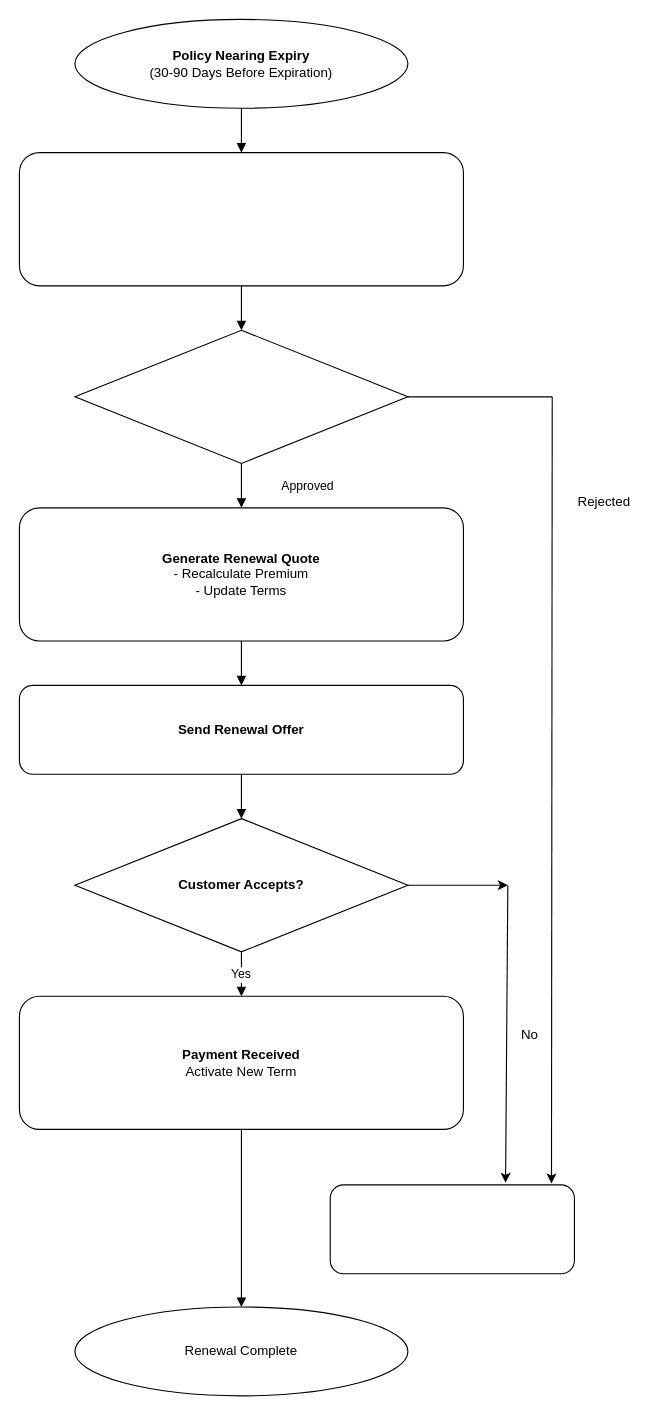
This 660x1415 diagram has some shape labels left out. The shapes that lost their labels are listed below. From the top down, each one's centre as x and y in pixels, then its label:
At [240,219]: "Pre-Renewal Review - Claims History - Payment History - Risk Re-evaluation".
At [241,396]: "Underwriting Decision?".
At [451,1229]: "Policy Expires / Non-Renewed".
